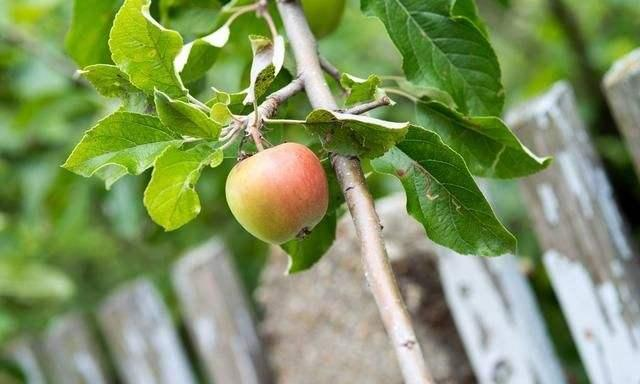apple: (223, 138, 329, 248)
